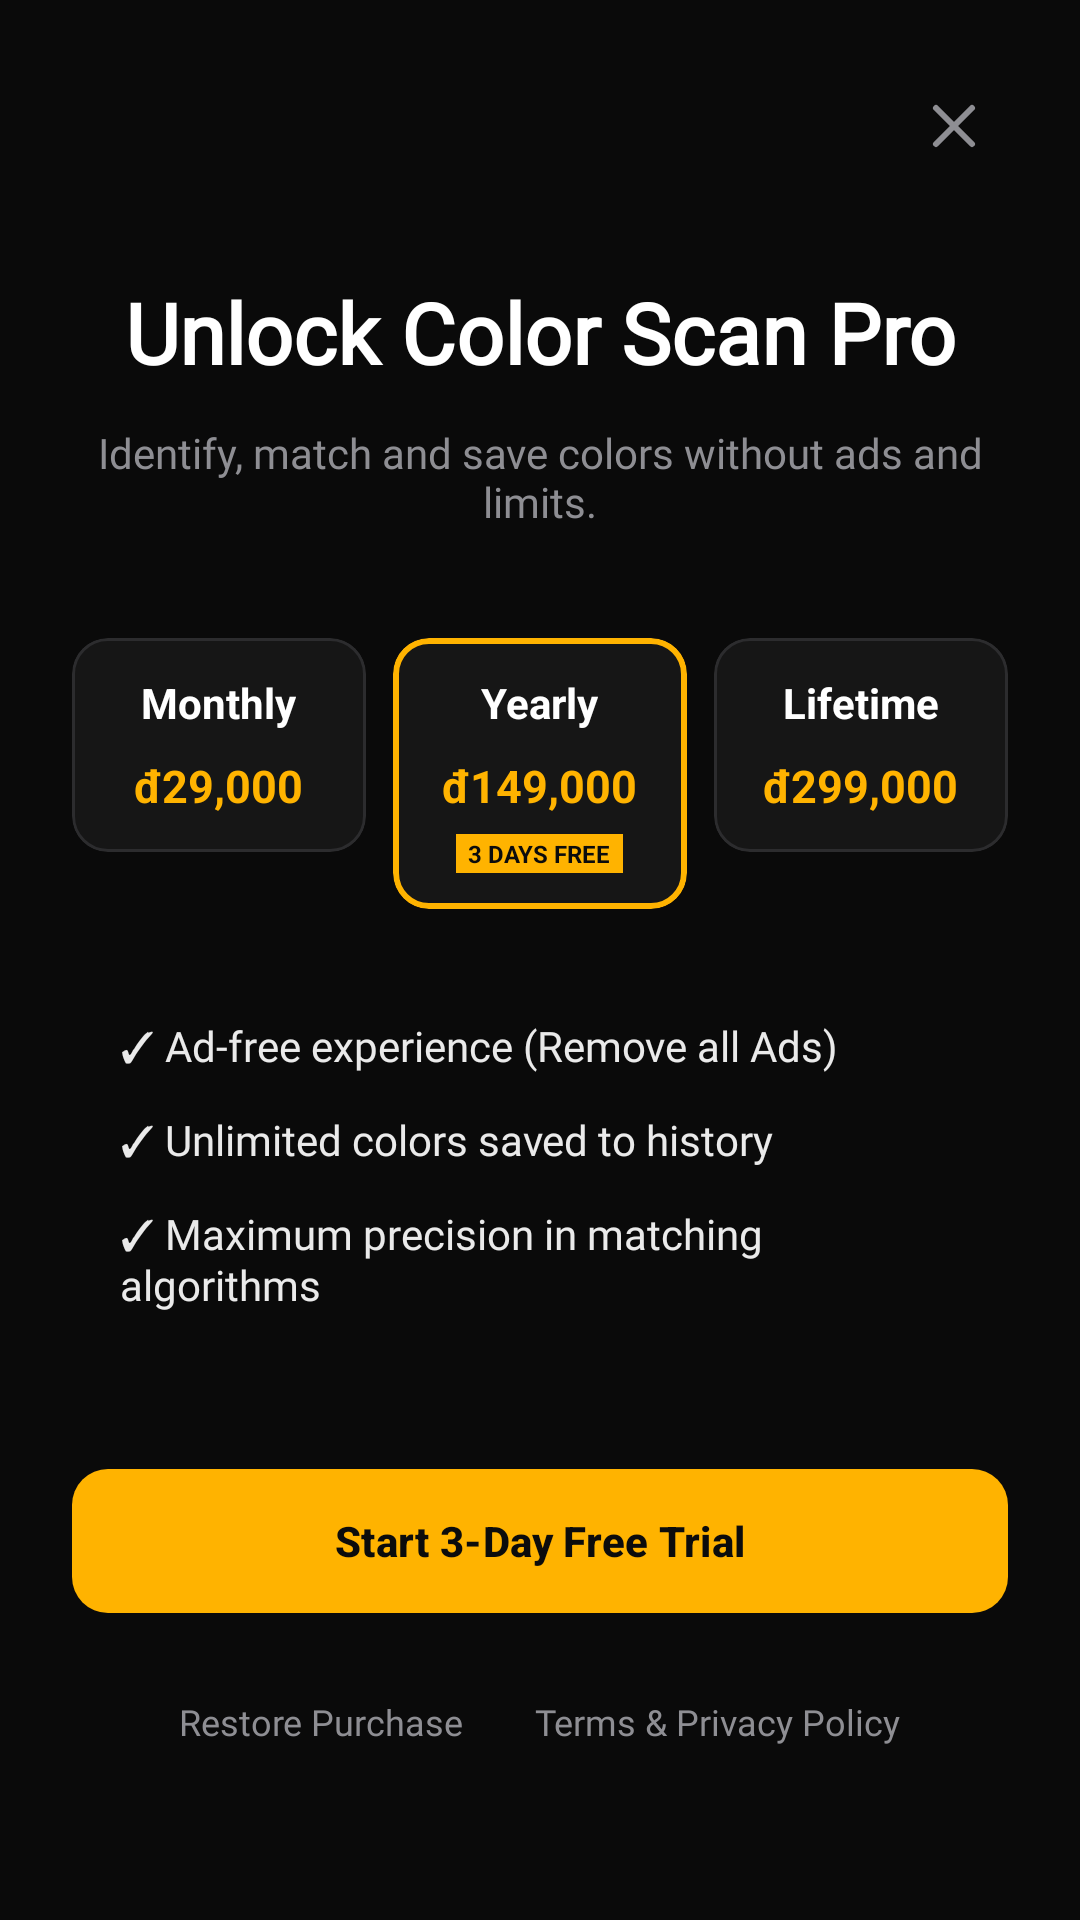

Point at icon controls on the screen. Image size 1080px x 1920px, points as point (x, y).
Close screen: point (954, 126)
